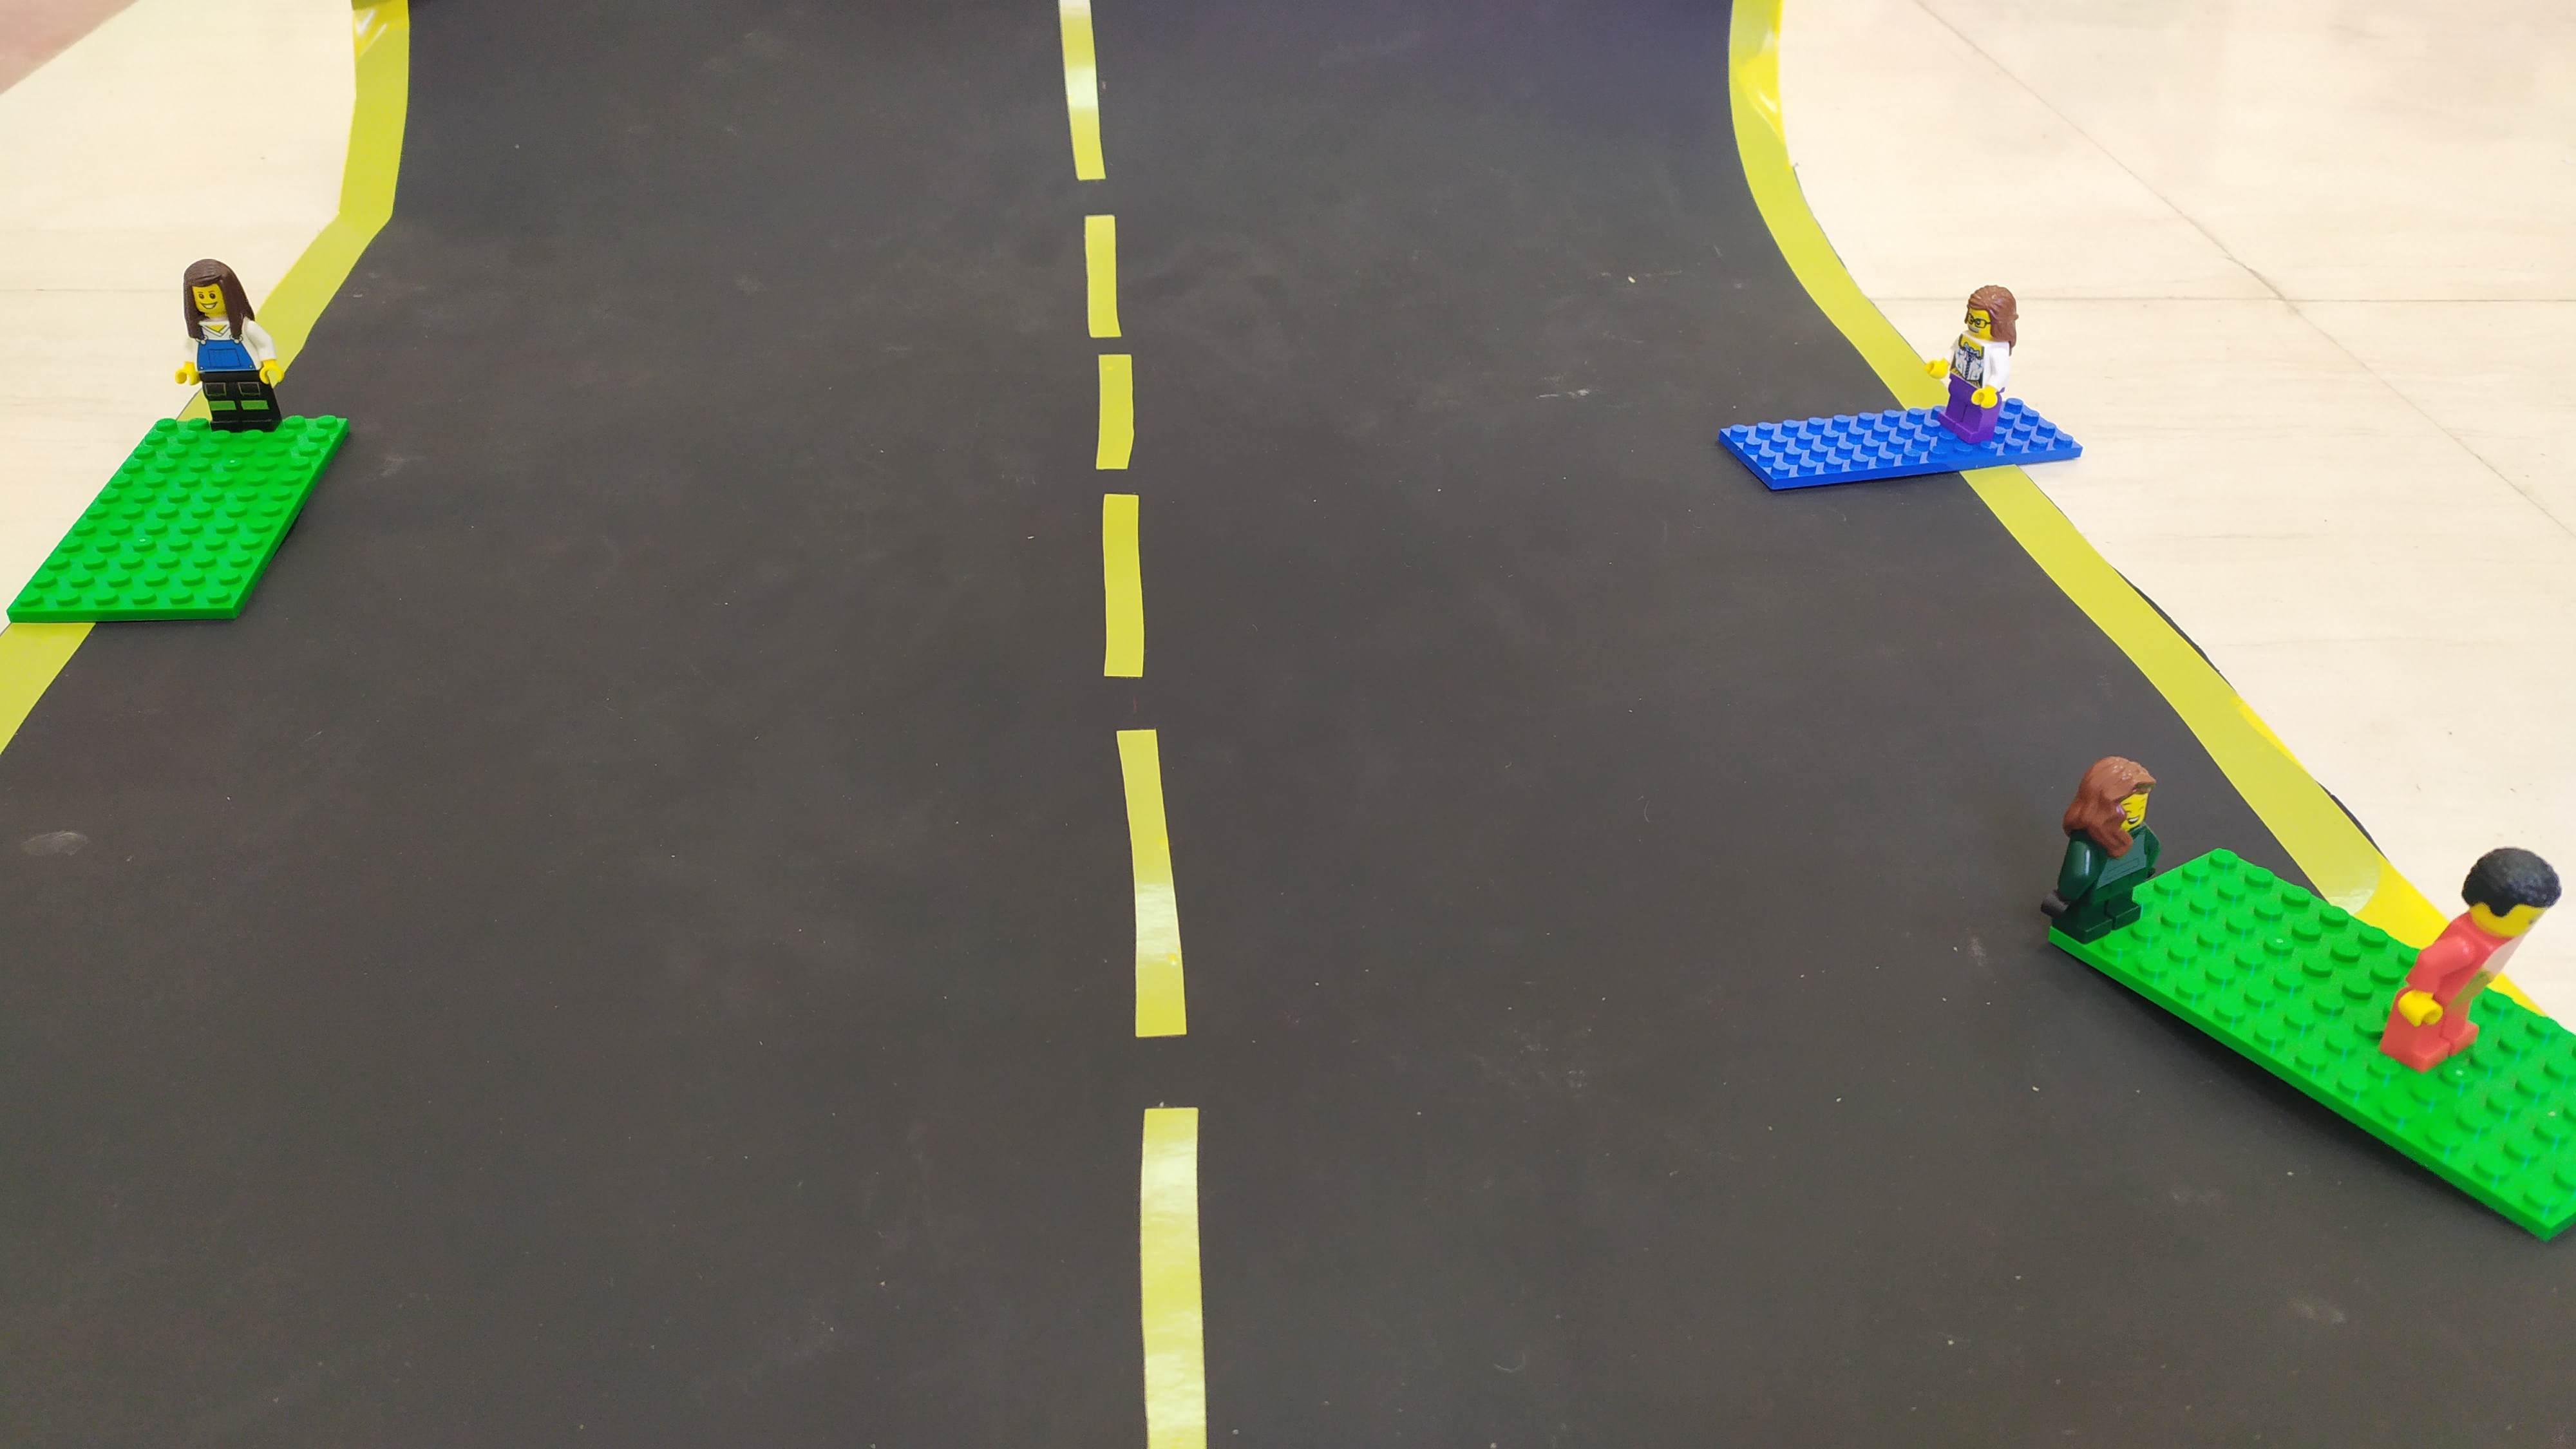Person: (2360, 847, 2573, 1098), (2032, 757, 2167, 950), (171, 248, 267, 454), (1935, 261, 2032, 454)
